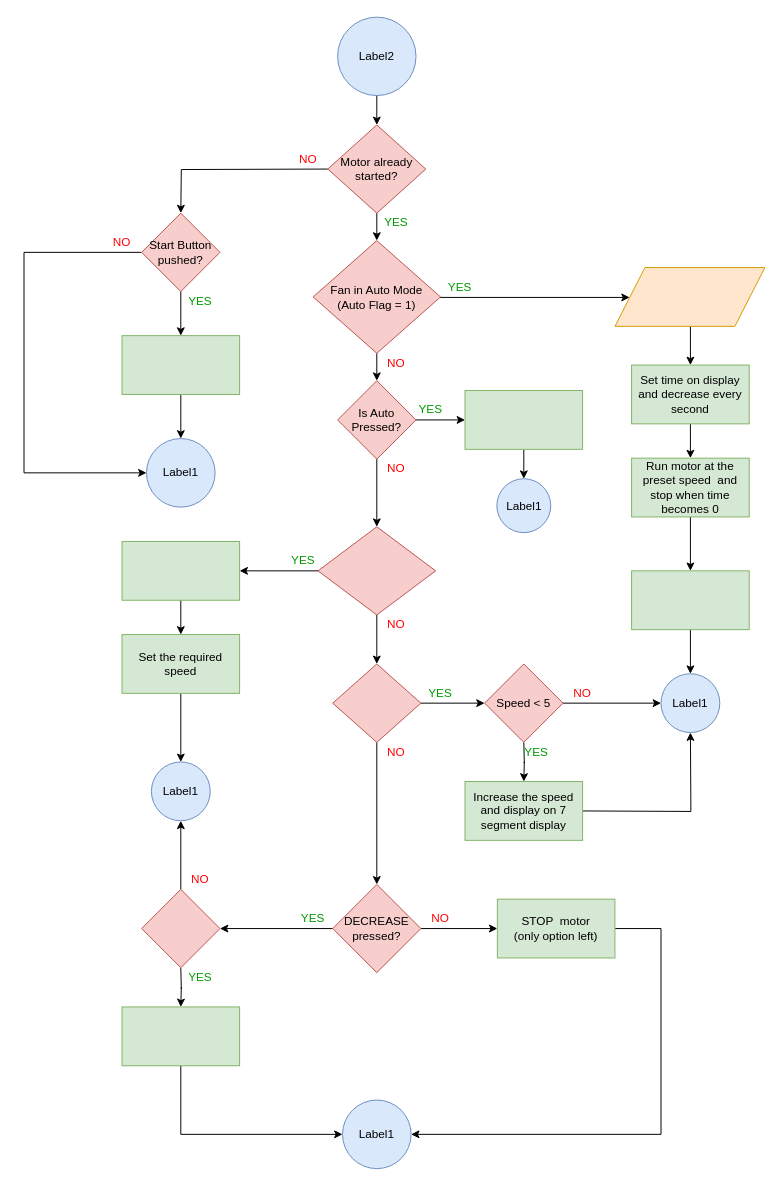
This 782x1186 diagram has some shape labels left out. Each missing label, with the centre of its shape:
Change the speed display: the point at 180,570
Decrease the speed and display on 7 segment display: the point at 180,1036
Did user press between 1 and 5?: the point at 376,570
INCREASE pressed?: the point at 376,702
Set Auto flag as 1: the point at 523,419
Speed>0: the point at 180,928
START the fan with speed 1: the point at 180,364
STOP motor: the point at 690,600
Take time input from the user: the point at 689,296
